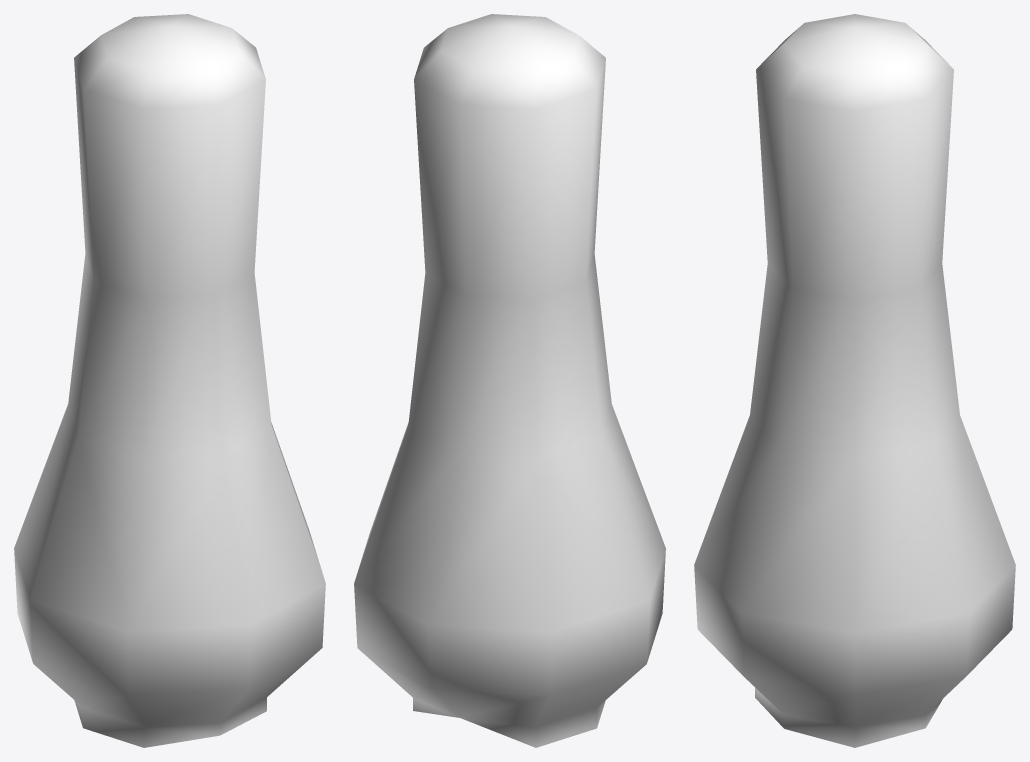
File: ampoule_02_B_top.fbx
The picture shows the model from 3 angles, left to right: view 1: azimuth 30°, elevation 25°; view 2: azimuth 150°, elevation 25°; view 3: azimuth 270°, elevation 25°; orthographic projection.
Visible parts, largest first — view 1: ampoule_02_B_top; view 2: ampoule_02_B_top; view 3: ampoule_02_B_top.
Boxes of the visible parts, x1=… form: ampoule_02_B_top: x1=14, y1=14, x2=325, y2=747; ampoule_02_B_top: x1=354, y1=14, x2=665, y2=747; ampoule_02_B_top: x1=694, y1=14, x2=1015, y2=747.
Bounding box in the file's own units: 0.1208 × 0.2812 × 0.1208.
